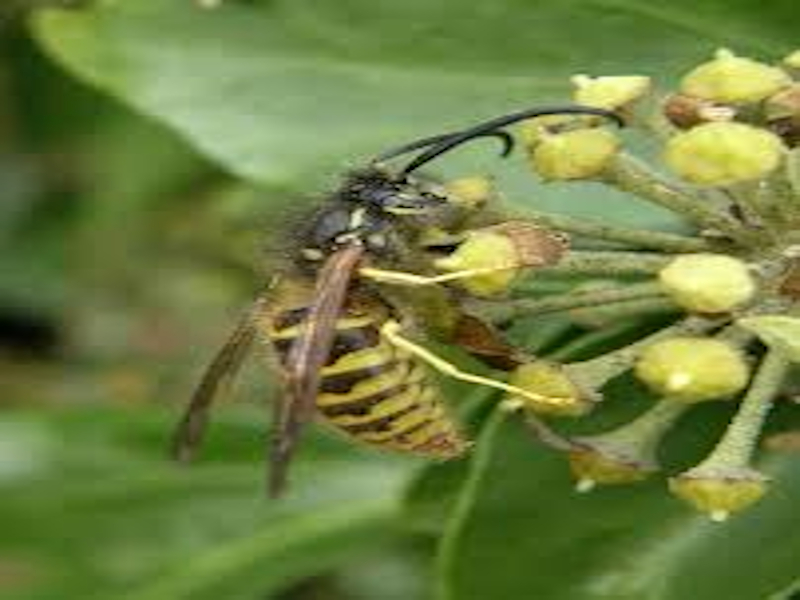chax: (140, 86, 634, 493)
